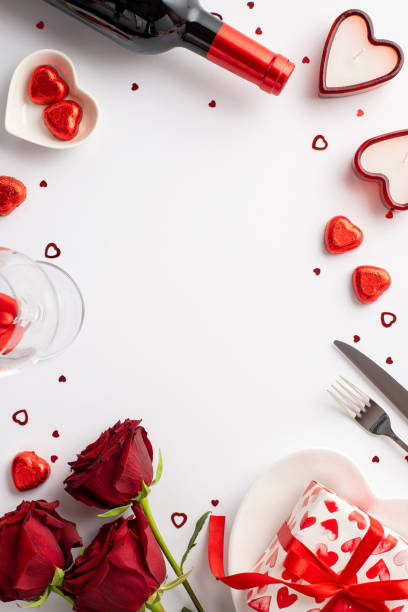alcohol: (38, 0, 300, 98)
knife: (328, 337, 408, 429)
